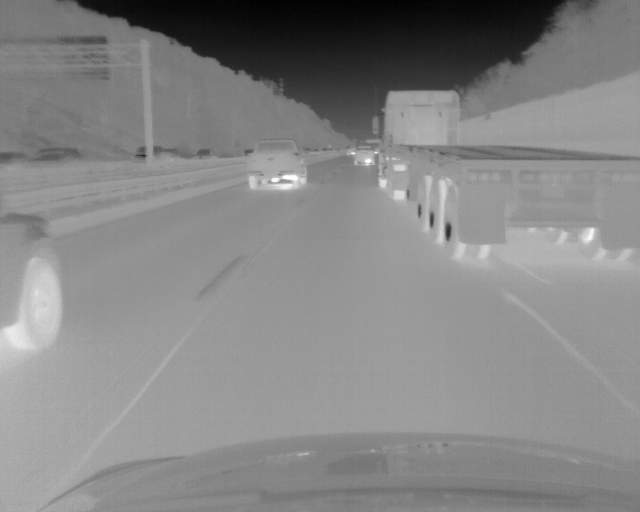car: (373, 89, 640, 262), (1, 211, 66, 356), (245, 139, 307, 190), (23, 148, 82, 163), (355, 144, 375, 166), (134, 145, 162, 160), (193, 147, 218, 160)
